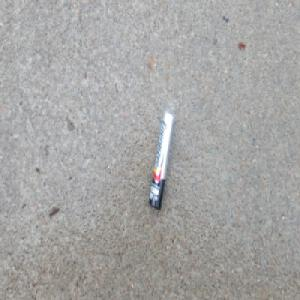Battery: (148, 110, 173, 211)
